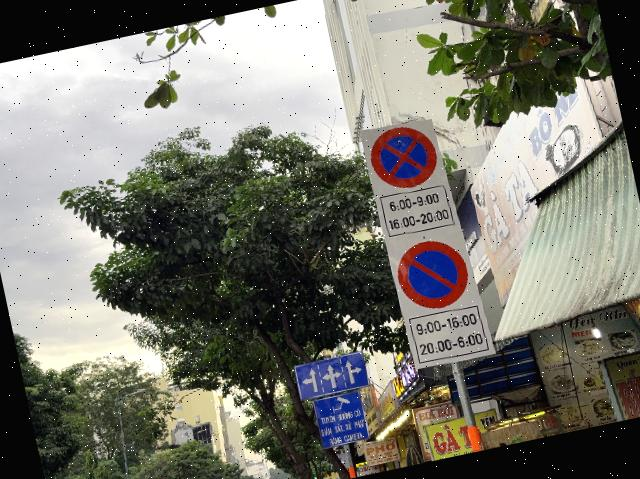cam-do-xe: (391, 234, 474, 316)
cam-dung-va-do-xe: (364, 119, 442, 195)
